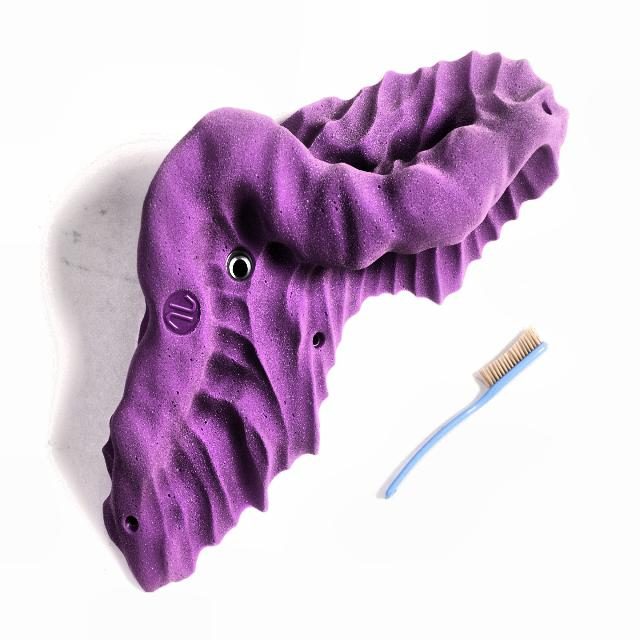Hold: (105, 55, 569, 598)
